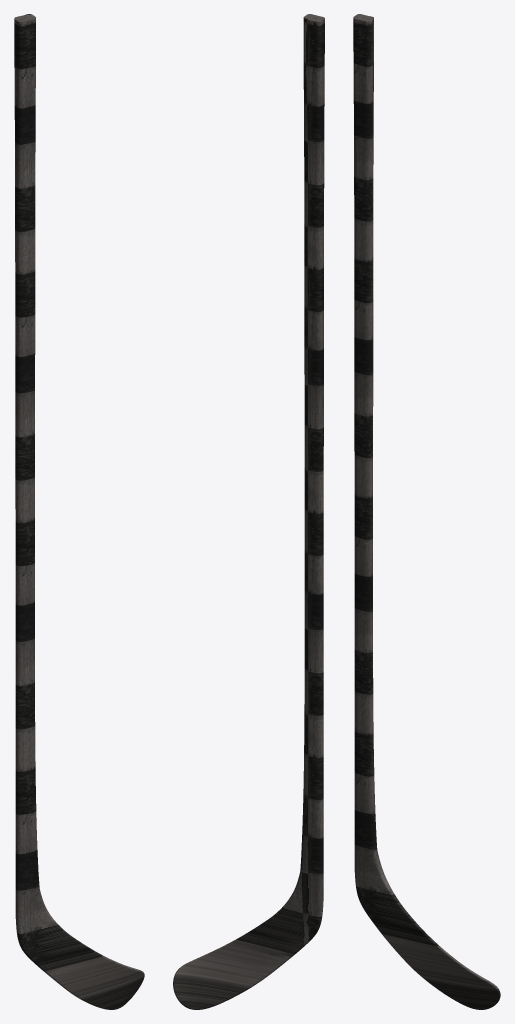
The model's file is P90-SBO.glb.
The picture shows the model from 3 angles, left to right: view 1: azimuth 30°, elevation 25°; view 2: azimuth 150°, elevation 25°; view 3: azimuth 330°, elevation 25°; orthographic projection. The views are drawn at different scales.
Visible parts, largest first — view 1: geometry_0; view 2: geometry_0; view 3: geometry_0.
Part boxes in pixels (left/top/right/bottom): geometry_0: left=14, top=14, right=144, bottom=1009; geometry_0: left=173, top=14, right=324, bottom=1009; geometry_0: left=353, top=14, right=500, bottom=1009.
Size of the model in its own units: 235 by 1650 by 57.35.
Materials: 1 (1 with a texture image).
